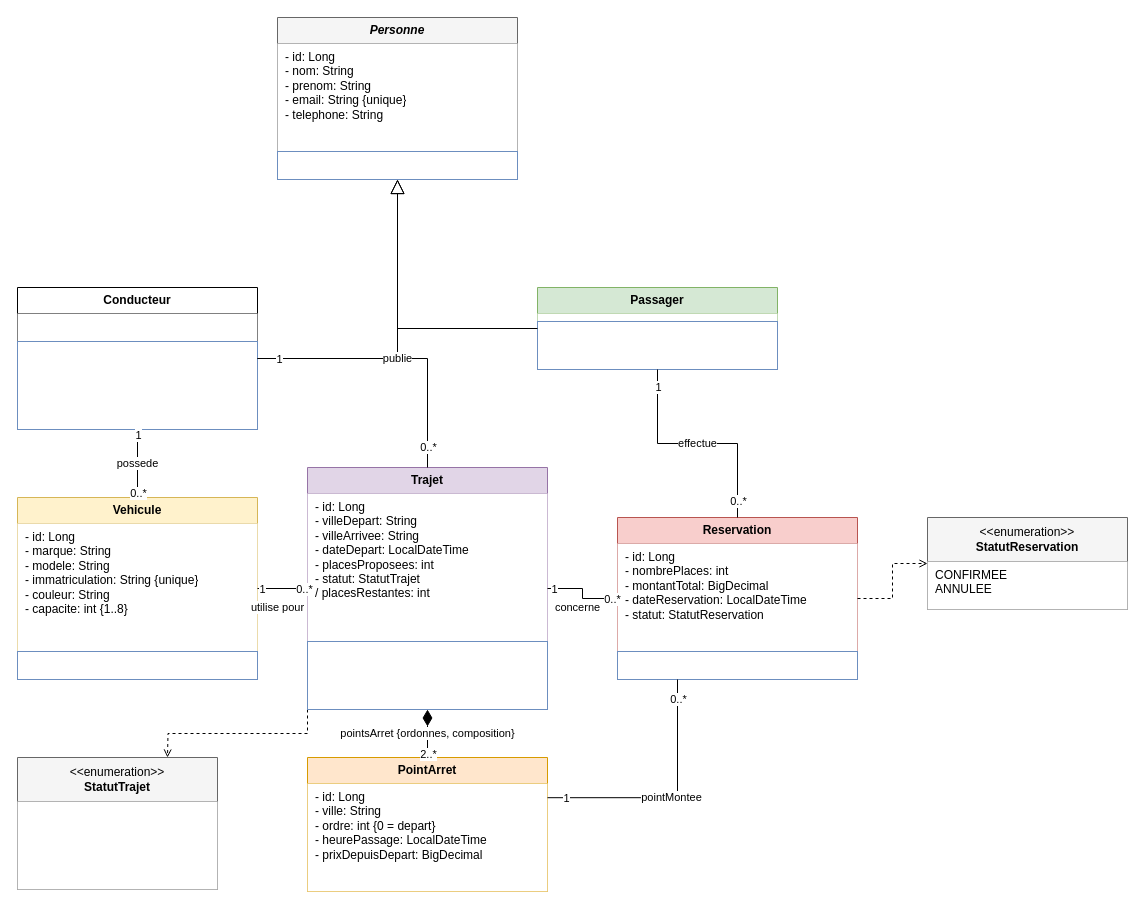
This 1145x912 diagram has some shape labels left out. Here are the shapes that lost their labels. From the top down, the centre of each, then its label:
At [397,165]: "+ modifierProfil()".
At [137,327]: "- numeroPermis: String {unique}".
At [657,345]: "+ reserver() + annulerReservation()".
At [137,385]: "+ ajouterVehicule() + publierTrajet() + terminerTrajet() + annulerTrajet()".
At [137,665]: "+ estLibre(): boolean".
At [427,675]: "+ calculerPrixSegment(montee, descente): BigDecimal + terminer() + annuler()".
At [737,665]: "+ annuler()".
At [117,845]: "PUBLIE COMPLET TERMINE ANNULE".
